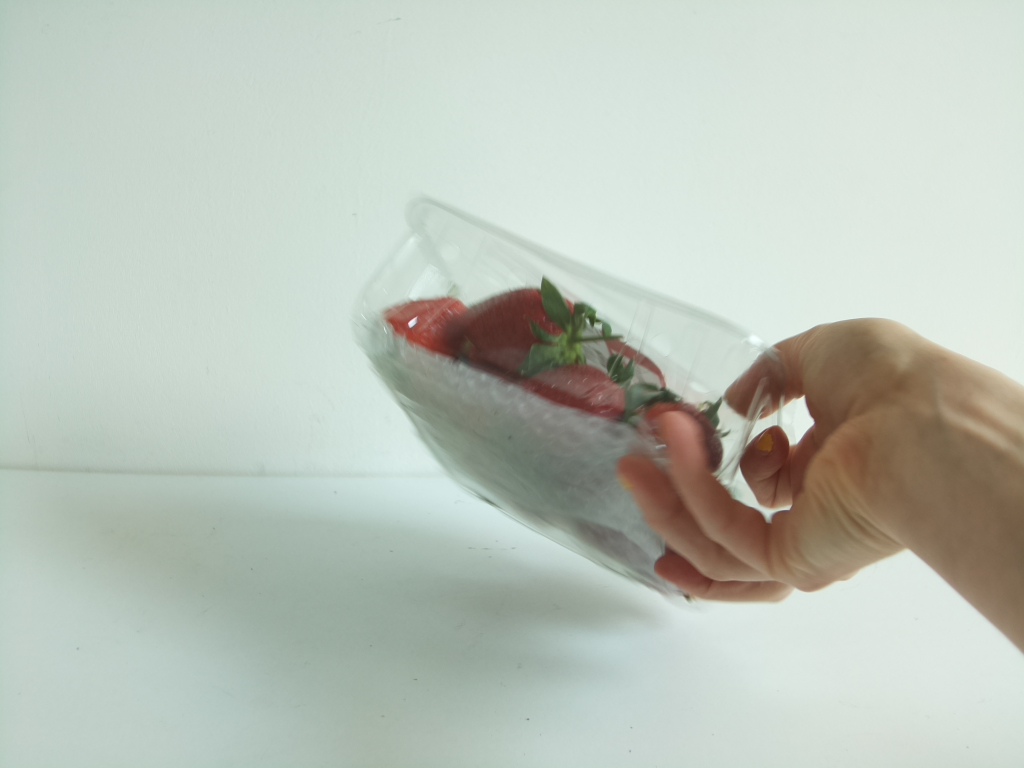soft-fruit: (352, 189, 794, 612)
